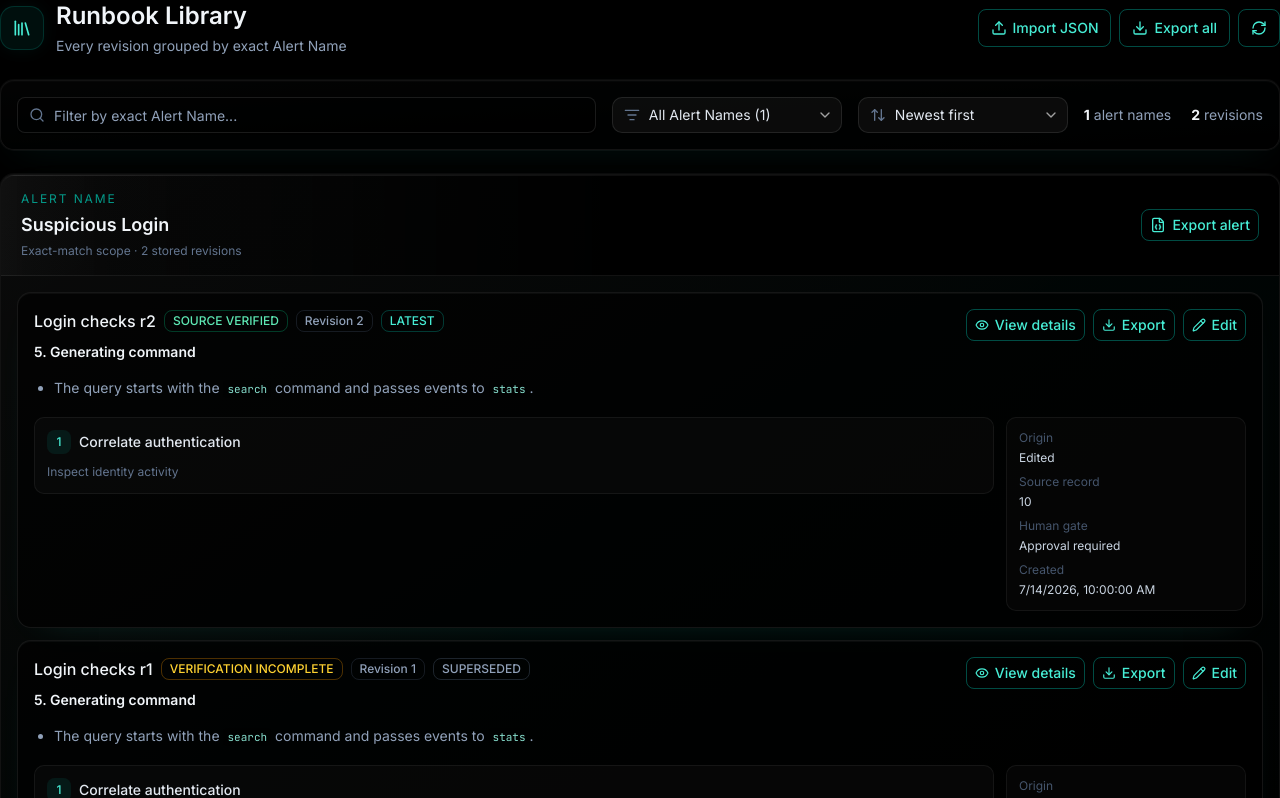
Test: RunbookLibraryContent › opens the complete immutable revision editor
This screenshot has width=1280, height=798.
Expected: the text "Login checks r2" is shown, [34,311,156,331]
Step 1. Click the button "Edit" in the row of "LATEST" → (1214, 325), box [1183,309,1246,341]
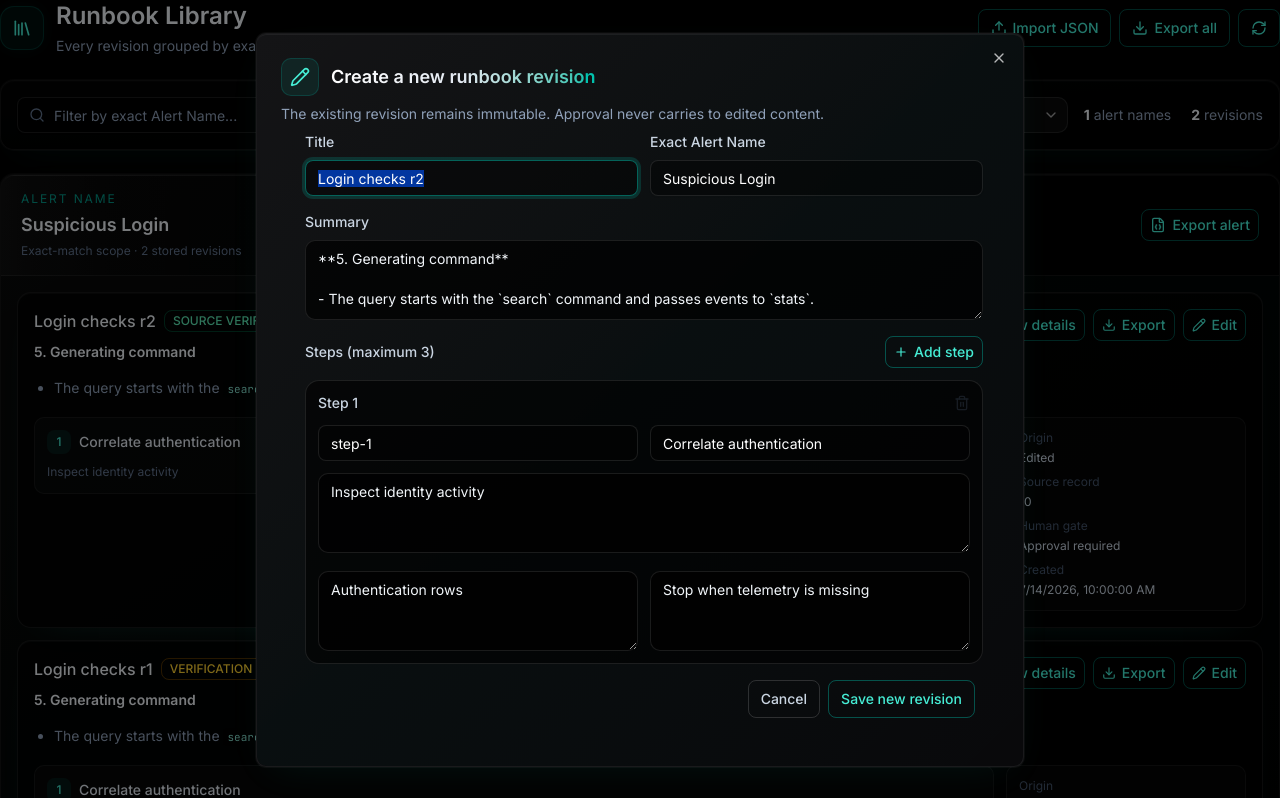
Now the text "Create a new runbook revision" is shown, box [331,68,596,86]
Now the 2nd field showing "Suspicious Login" is shown, box [650,160,983,196]
Now the text "Approval never carries" is shown, box [281,105,824,122]
